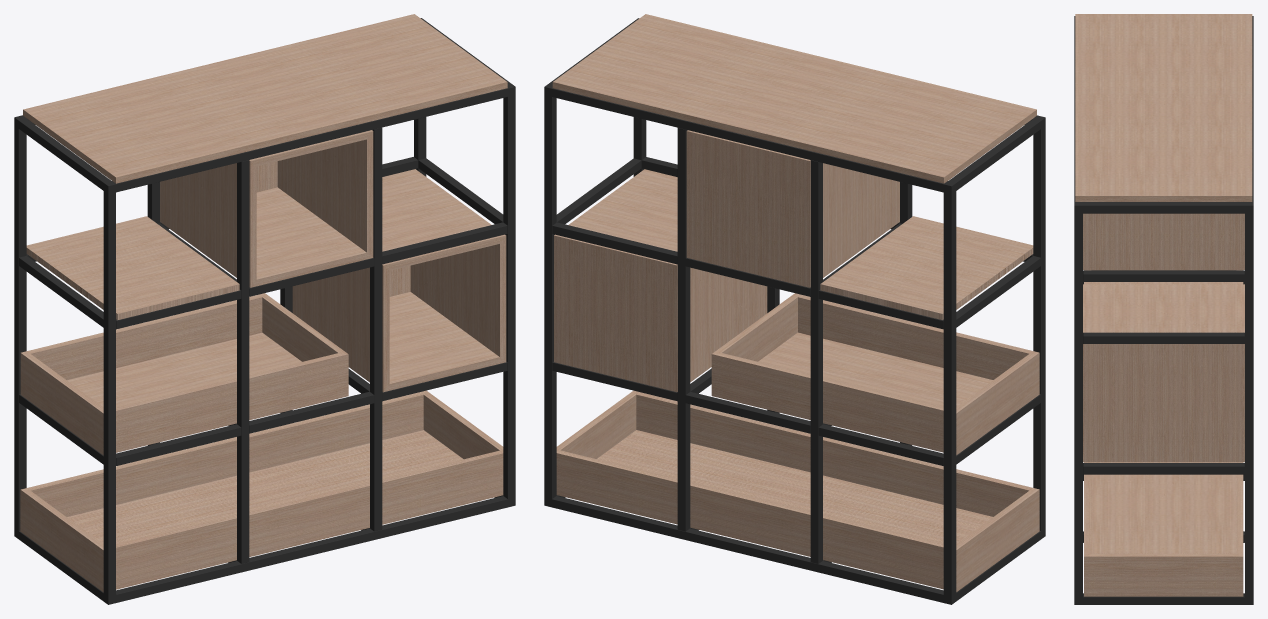
The model's file is Shelf_Boxes_Short.glb.
3 renders of one model, left to right at view 1: azimuth 30°, elevation 25°; view 2: azimuth 150°, elevation 25°; view 3: azimuth 270°, elevation 25°, orthographic. The views are drawn at different scales.
Visible parts, largest first — view 1: low_industrial_shelving; view 2: low_industrial_shelving; view 3: low_industrial_shelving.
Part boxes in pixels (x1,y1,x2,y2): low_industrial_shelving: (14,14,515,604); low_industrial_shelving: (544,14,1045,604); low_industrial_shelving: (1074,14,1253,604).
Size of the model in its own units: 1.02 by 1.01 by 0.4064.
2 materials, 1 textured.
